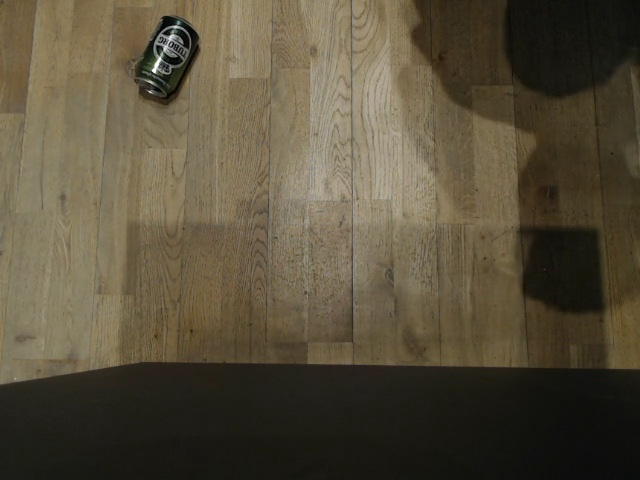beer: (133, 13, 200, 99)
